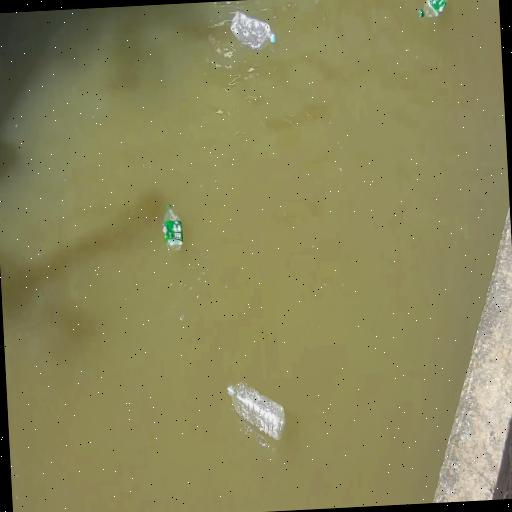plastic: (226, 376, 288, 444), (229, 10, 276, 52), (162, 203, 184, 256), (416, 0, 449, 21)
